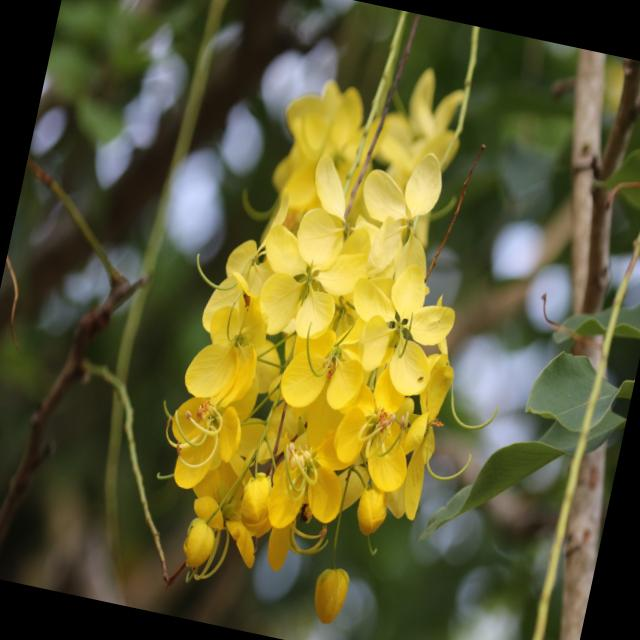Amaltas: (120, 41, 531, 640)
